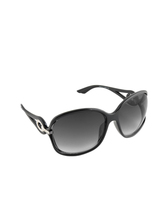glasses: (16, 82, 154, 159)
